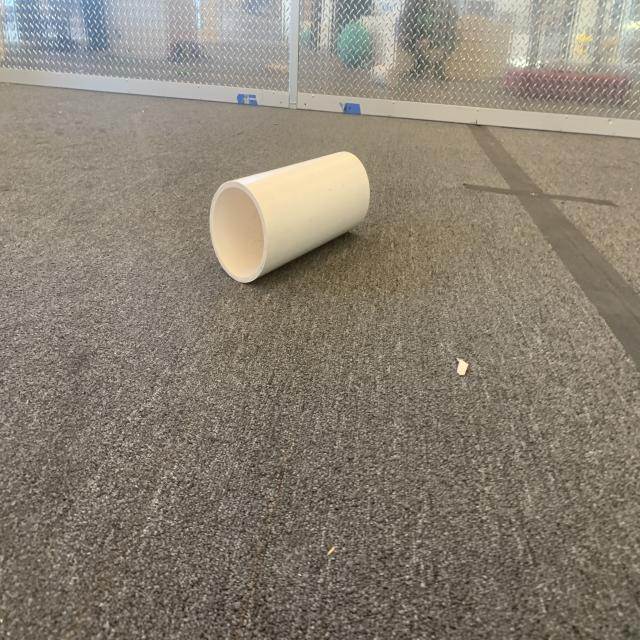Coral: (208, 149, 371, 284)
